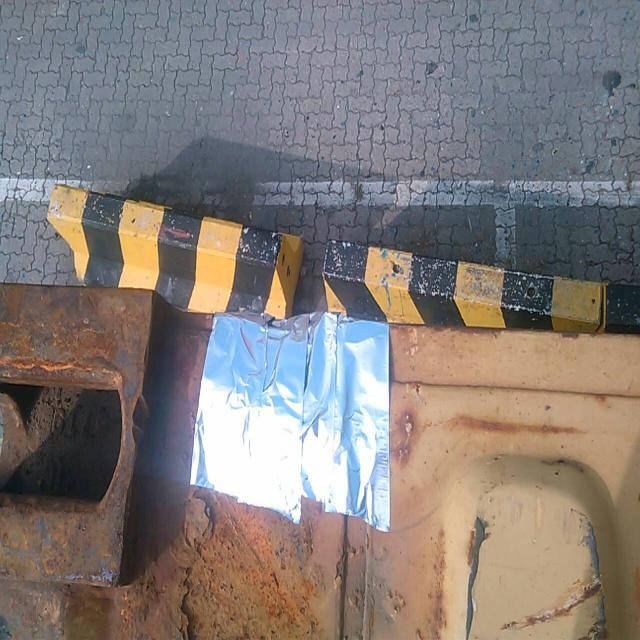rust: (178, 492, 327, 640)
